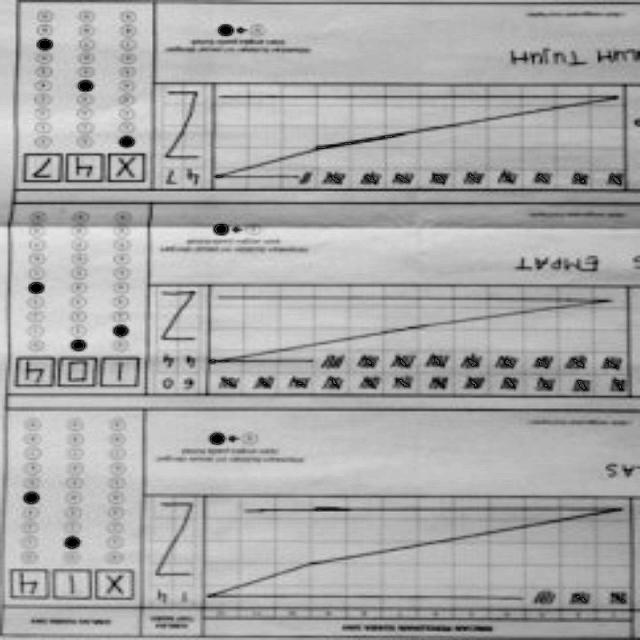Suara: (8, 567, 138, 610), (11, 354, 145, 395), (18, 151, 150, 192)
